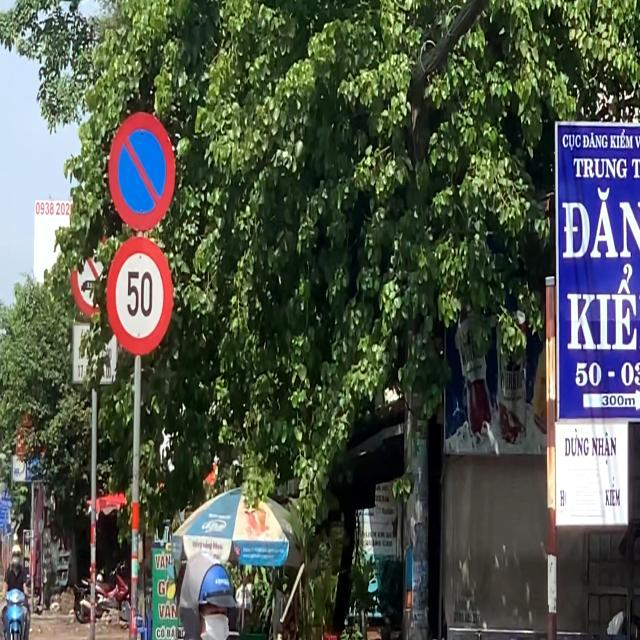Cam do xe: (108, 110, 176, 232)
Toc do toi da cho phep: (106, 236, 174, 356)
